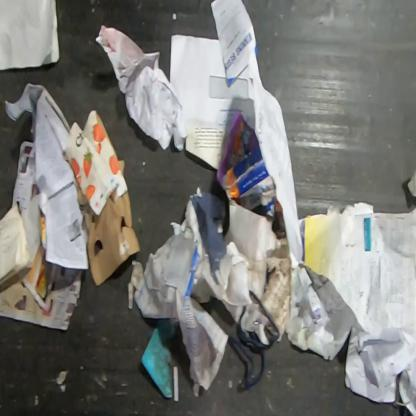cardboard: (64, 110, 141, 286)
